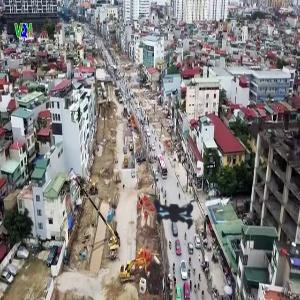drone: (122, 157, 229, 264)
